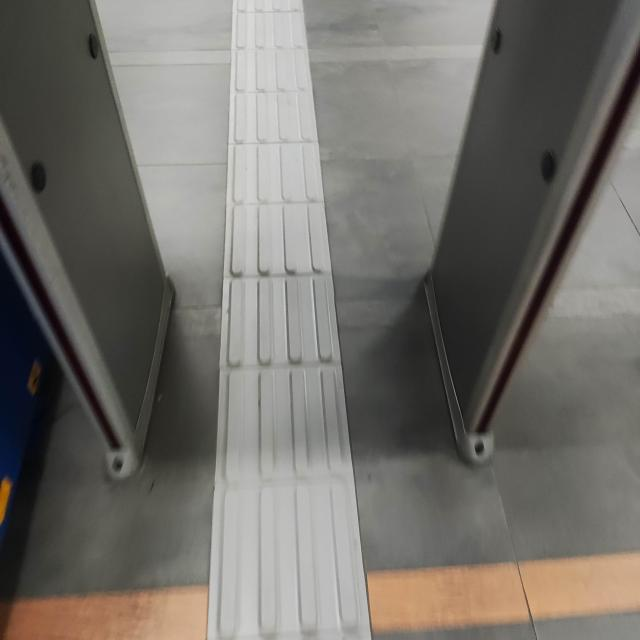lurus: (188, 20, 363, 640)
